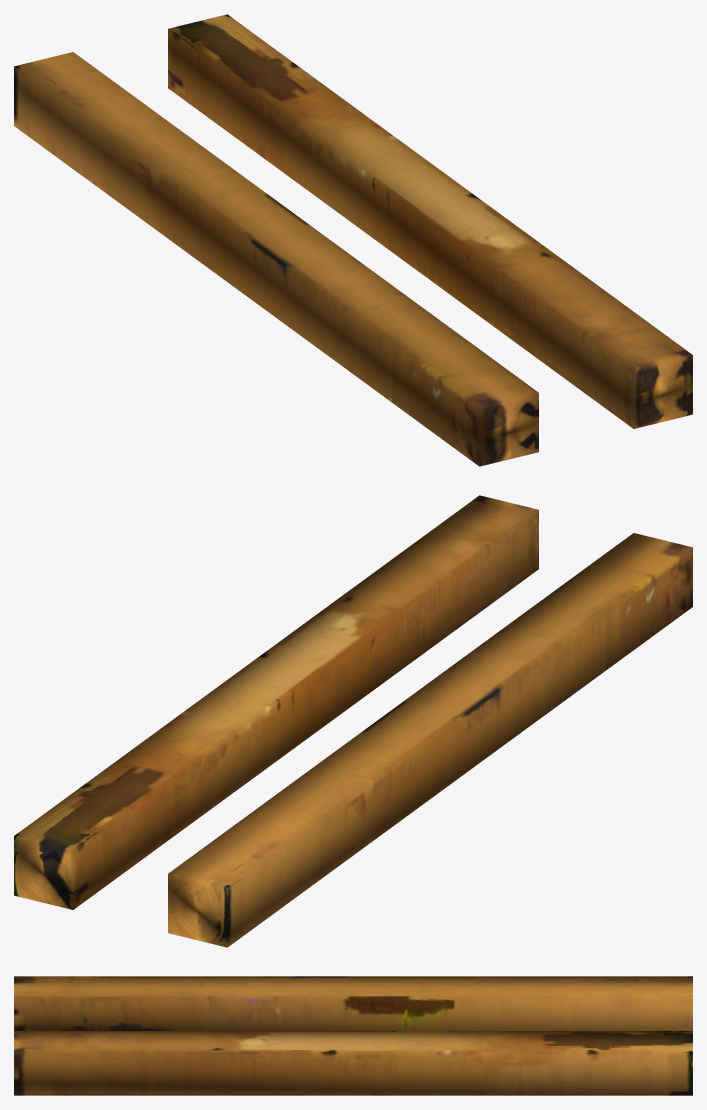
The model's file is SM_Tourelle_Canons.glb.
3 renders of one model, top to bottom at view 1: azimuth 30°, elevation 25°; view 2: azimuth 150°, elevation 25°; view 3: azimuth 270°, elevation 25°, orthographic. The views are drawn at different scales.
Bounding box in the file's own units: 0.5294 × 0.1412 × 2.
Materials: 1 (1 with a texture image).
